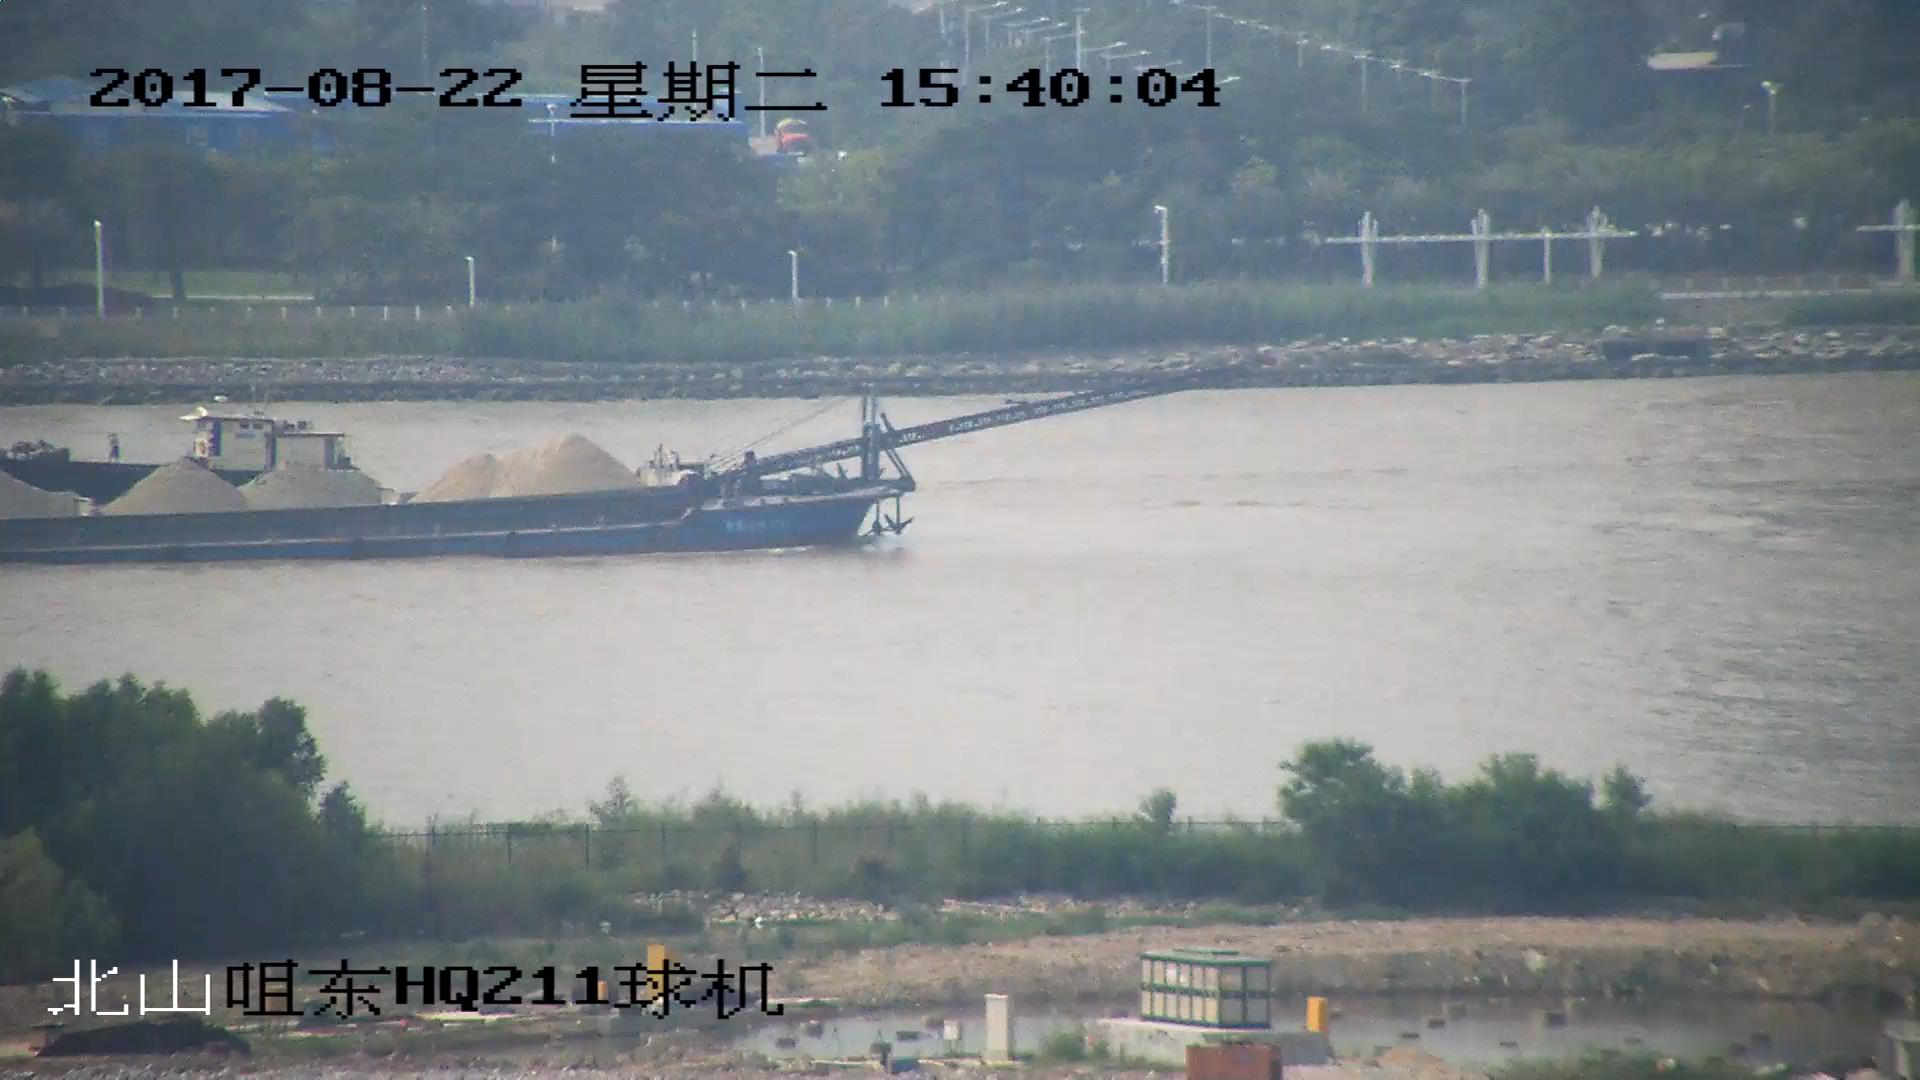fishing boat: (1, 406, 370, 505)
ore carrier: (1, 369, 1251, 567)
